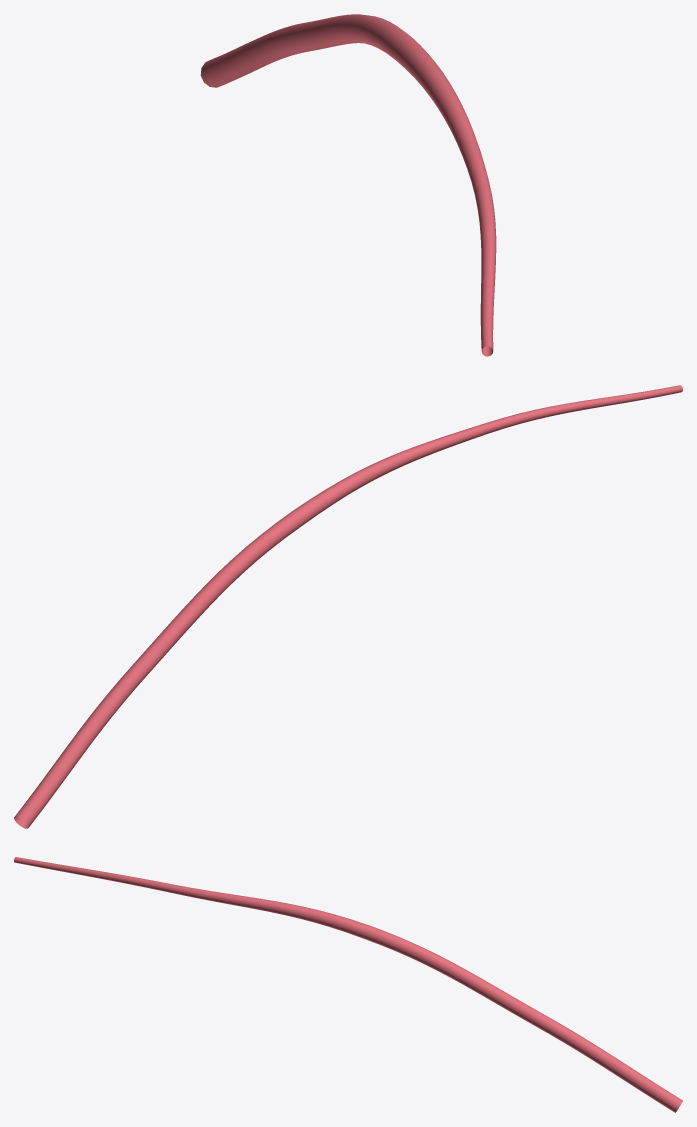
3 views of the same model, one above another, from view 1: azimuth 30°, elevation 25°; view 2: azimuth 150°, elevation 25°; view 3: azimuth 270°, elevation 25° (orthographic). The views are drawn at different scales.
Visible parts, largest first — view 1: ZA_7fe7c2d9de309631; view 2: ZA_7fe7c2d9de309631; view 3: ZA_7fe7c2d9de309631.
Part boxes in pixels (box(x1,y1,x2,y2)): ZA_7fe7c2d9de309631: box(200, 14, 496, 356); ZA_7fe7c2d9de309631: box(14, 385, 682, 828); ZA_7fe7c2d9de309631: box(14, 857, 682, 1112).
Bounding box in the file's own units: 0.0162 × 0.0128 × 0.046.
